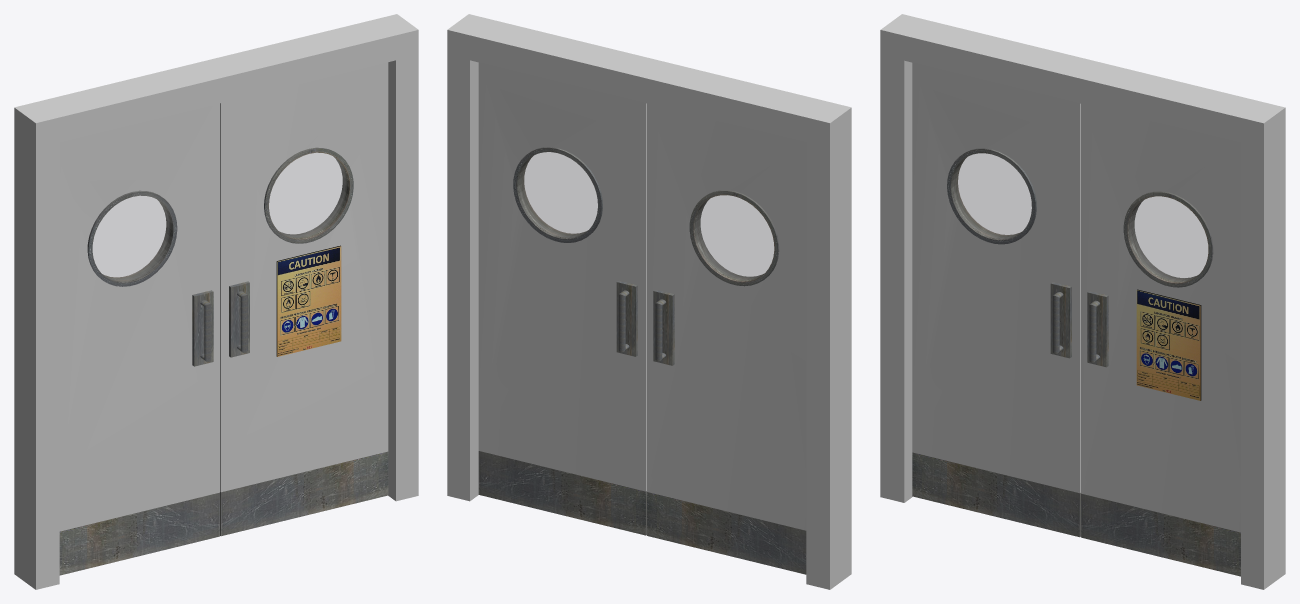
The model's file is Doors 2.FBX.
3 renders of one model, left to right at view 1: azimuth 30°, elevation 25°; view 2: azimuth 150°, elevation 25°; view 3: azimuth 330°, elevation 25°, orthographic.
Visible parts, largest first — view 1: door 2, Door 1, door frame, Poster; view 2: Door 1, door 2, door frame; view 3: door 2, Door 1, door frame, Poster.
Part boxes in pixels (<box>): door 2: <box>59,103,219,575</box>; Door 1: <box>220,62,388,536</box>; door frame: <box>14,14,418,589</box>; Poster: <box>276,245,341,356</box>; Door 1: <box>478,62,646,535</box>; door 2: <box>647,103,806,574</box>; door frame: <box>447,14,851,589</box>; door 2: <box>912,62,1080,537</box>; Door 1: <box>1081,104,1240,576</box>; door frame: <box>880,14,1285,589</box>; Poster: <box>1136,289,1201,400</box>.
Bounding box in the file's own units: 71.58 × 7 × 83.39.
Materials: 4 (2 with a texture image).
